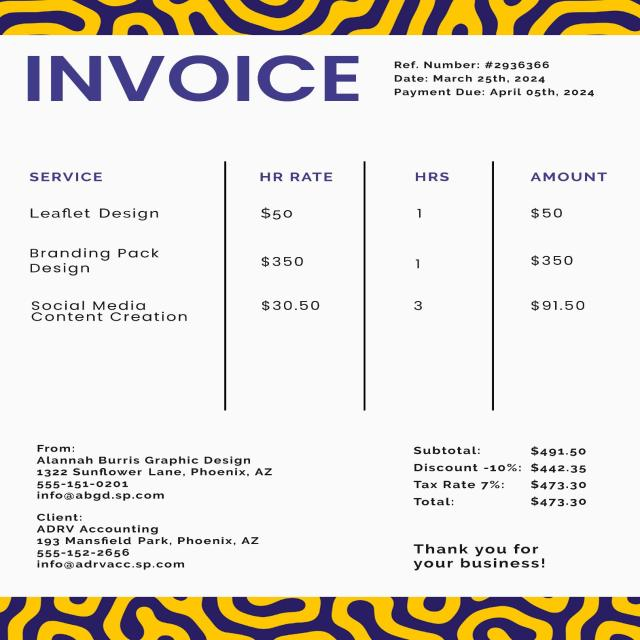paragraph: (24, 41, 368, 118), (24, 508, 309, 580), (24, 437, 304, 502), (398, 438, 606, 519), (383, 45, 616, 110), (402, 535, 550, 580)
table: (12, 146, 620, 420)
